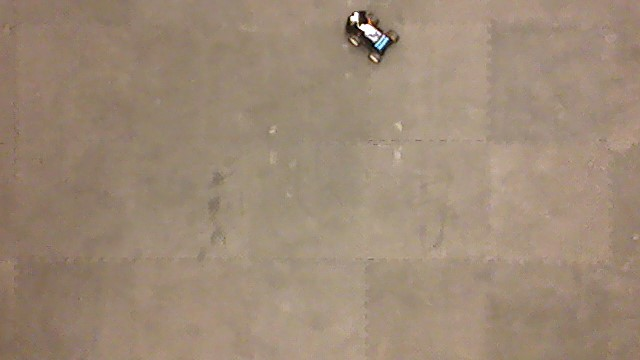Agent: (344, 8, 401, 66)
